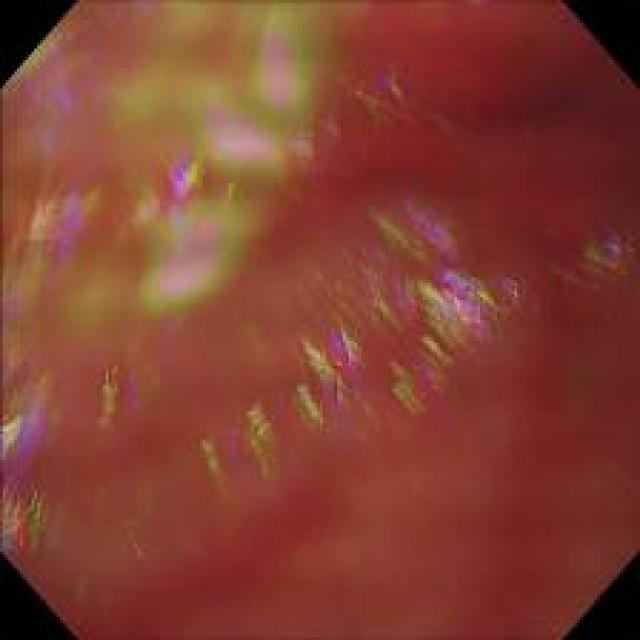color misalignment: (2, 2, 635, 636), (4, 24, 359, 576), (296, 212, 541, 442), (338, 54, 456, 134), (188, 394, 279, 488), (575, 216, 631, 296)
